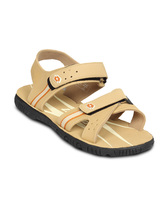shoes: (7, 45, 157, 159)
